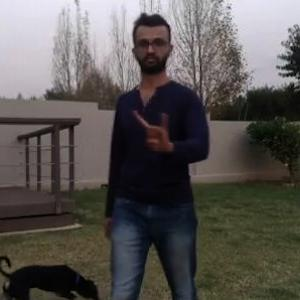takeoff-hand: (131, 101, 174, 155)
